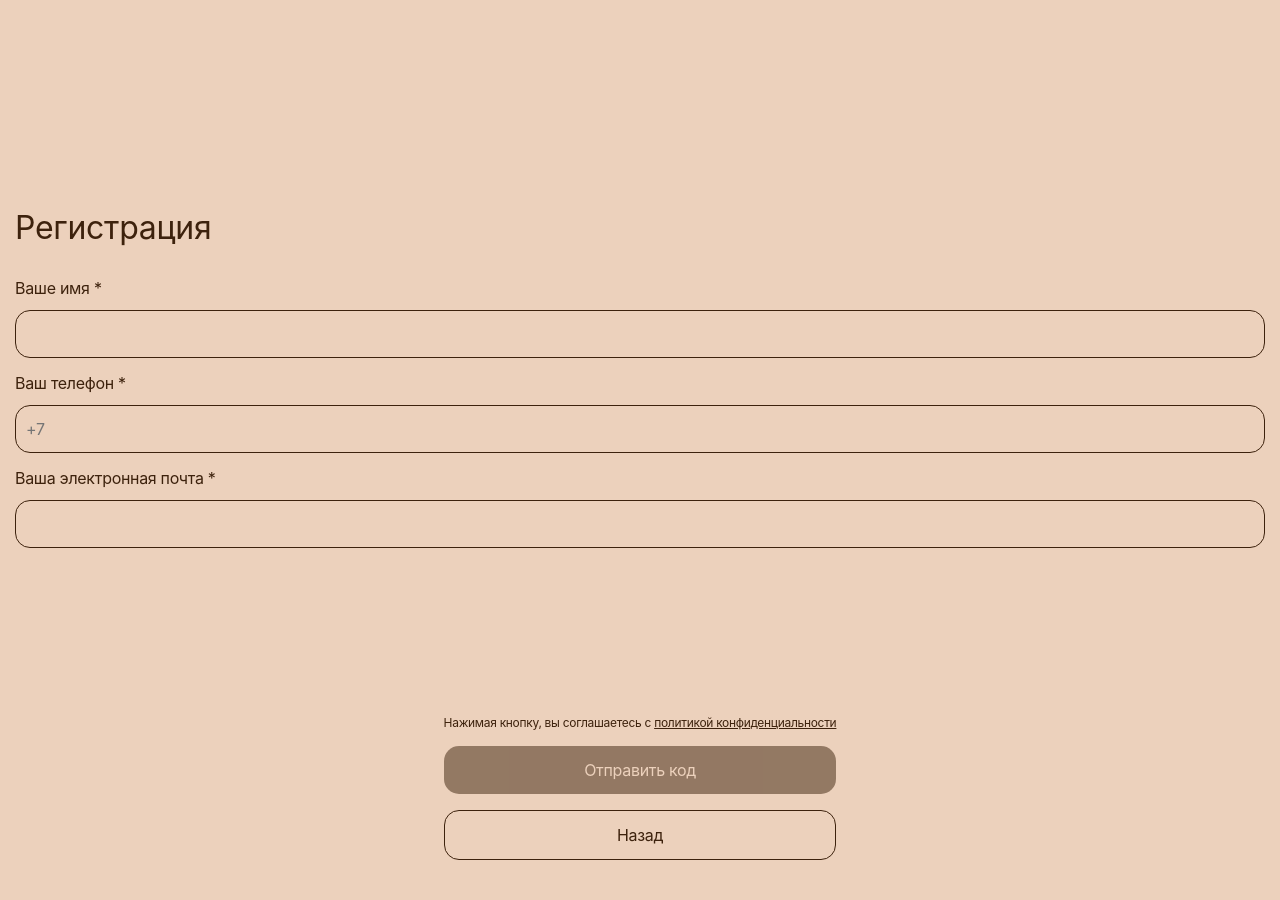
RegisterStep1 Component › валидация поля "Телефон" › показывает ошибку при неверном формате
Type "12345" into the field labelled "Ваш телефон *". click: coordinates (640, 428)
box: [15,404,1265,452]
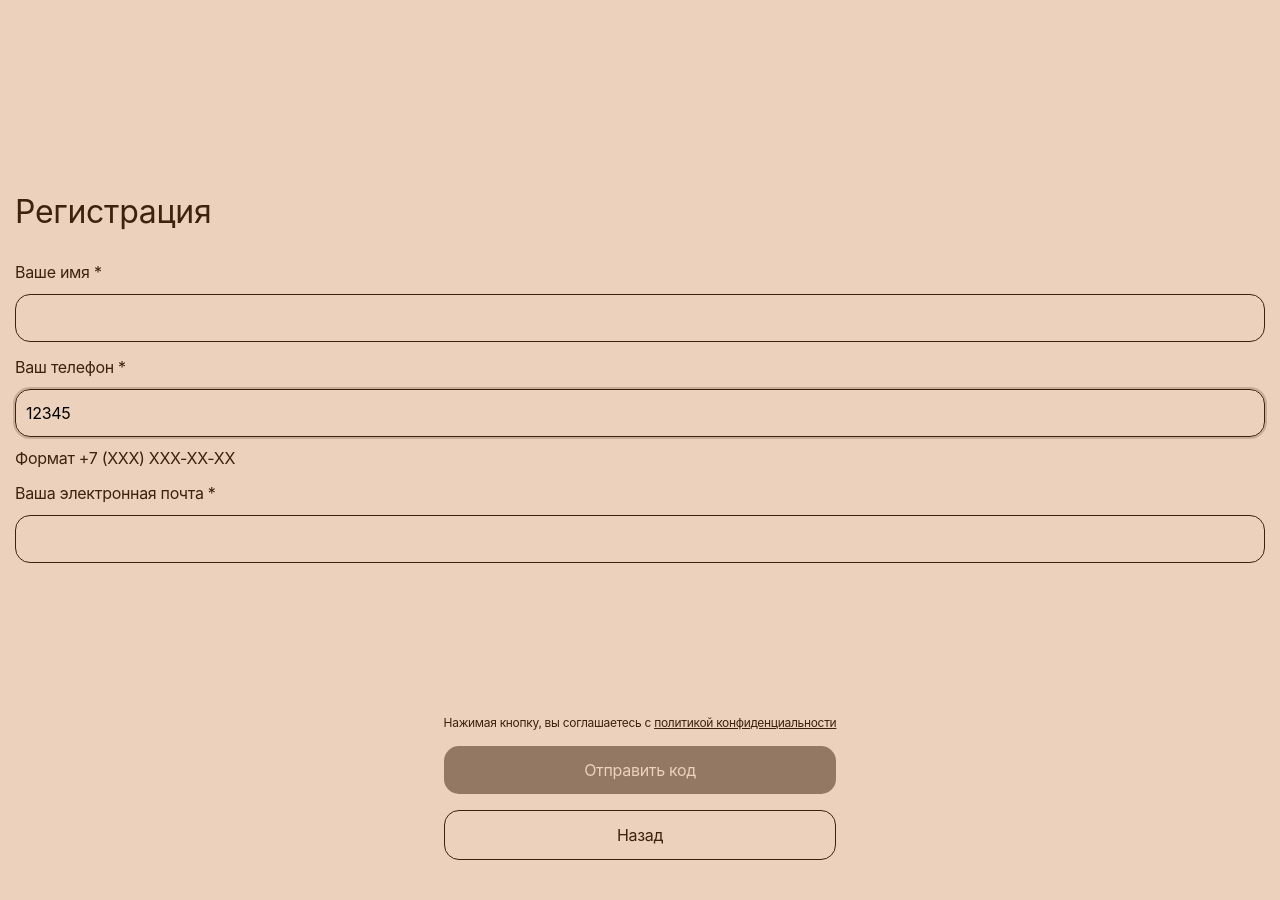
Expected: the text "Формат +7 (XXX) XXX-XX-XX" is shown, [15,448,235,468]
